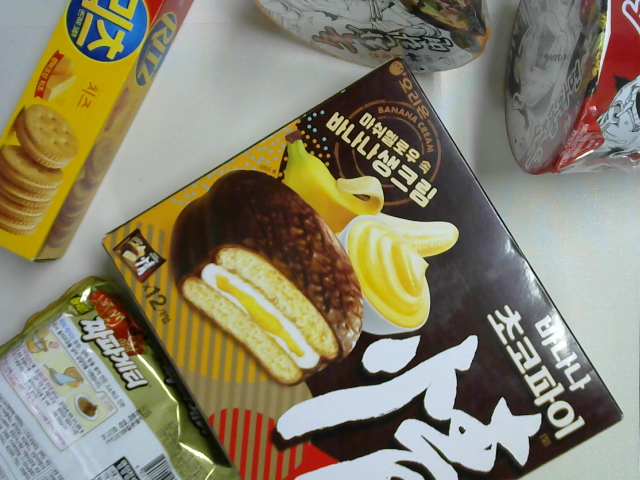Choco_Pie_Banana: (96, 57, 626, 480)
Hejangchan: (256, 1, 495, 80)
Hejangpul: (509, 1, 640, 184)
Olive_Chapaghetti: (1, 273, 237, 480)
Ritz_Sand_Cracker: (2, 1, 197, 265)
